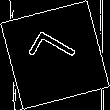L_SE: (25, 29, 85, 81)
